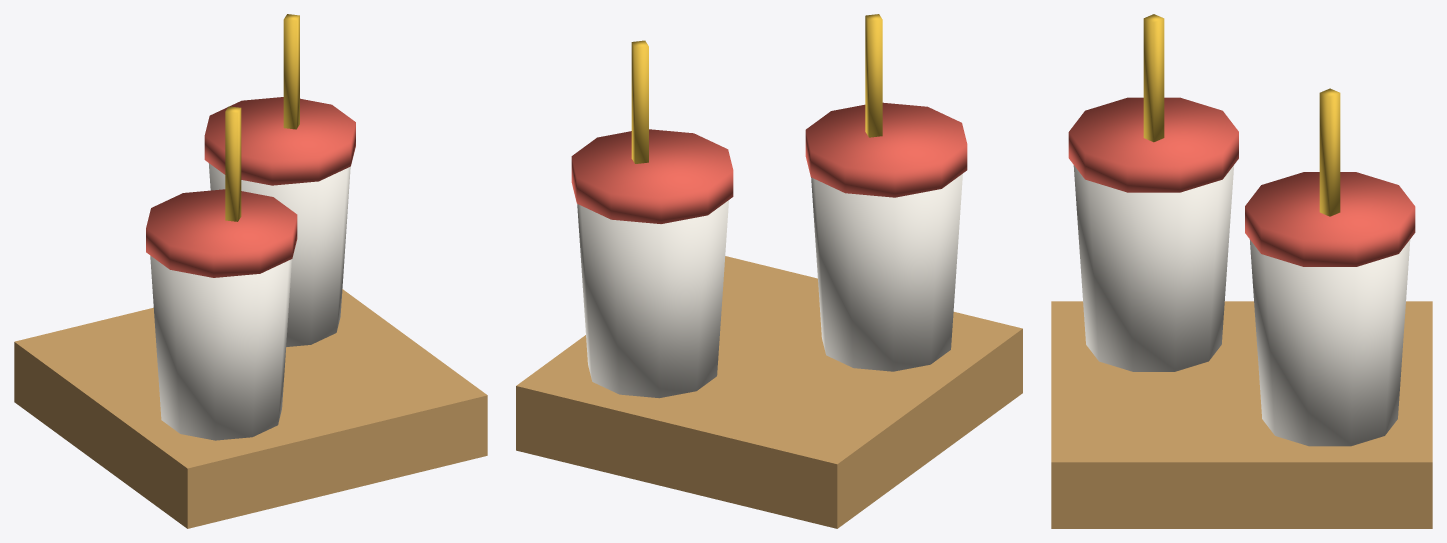
The model's file is cup_holder.gltf.
The picture shows the model from 3 angles, left to right: view 1: azimuth 30°, elevation 25°; view 2: azimuth 150°, elevation 25°; view 3: azimuth 270°, elevation 25°; orthographic projection. The views are drawn at different scales.
Parts seen in each view (by area): view 1: cup_holder_mesh; view 2: cup_holder_mesh; view 3: cup_holder_mesh.
Part boxes in pixels (<box>): cup_holder_mesh: <box>14,14,487,528</box>; cup_holder_mesh: <box>516,14,1022,528</box>; cup_holder_mesh: <box>1051,14,1432,528</box>.
Bounding box in the file's own units: 0.26 × 0.3 × 0.26.
